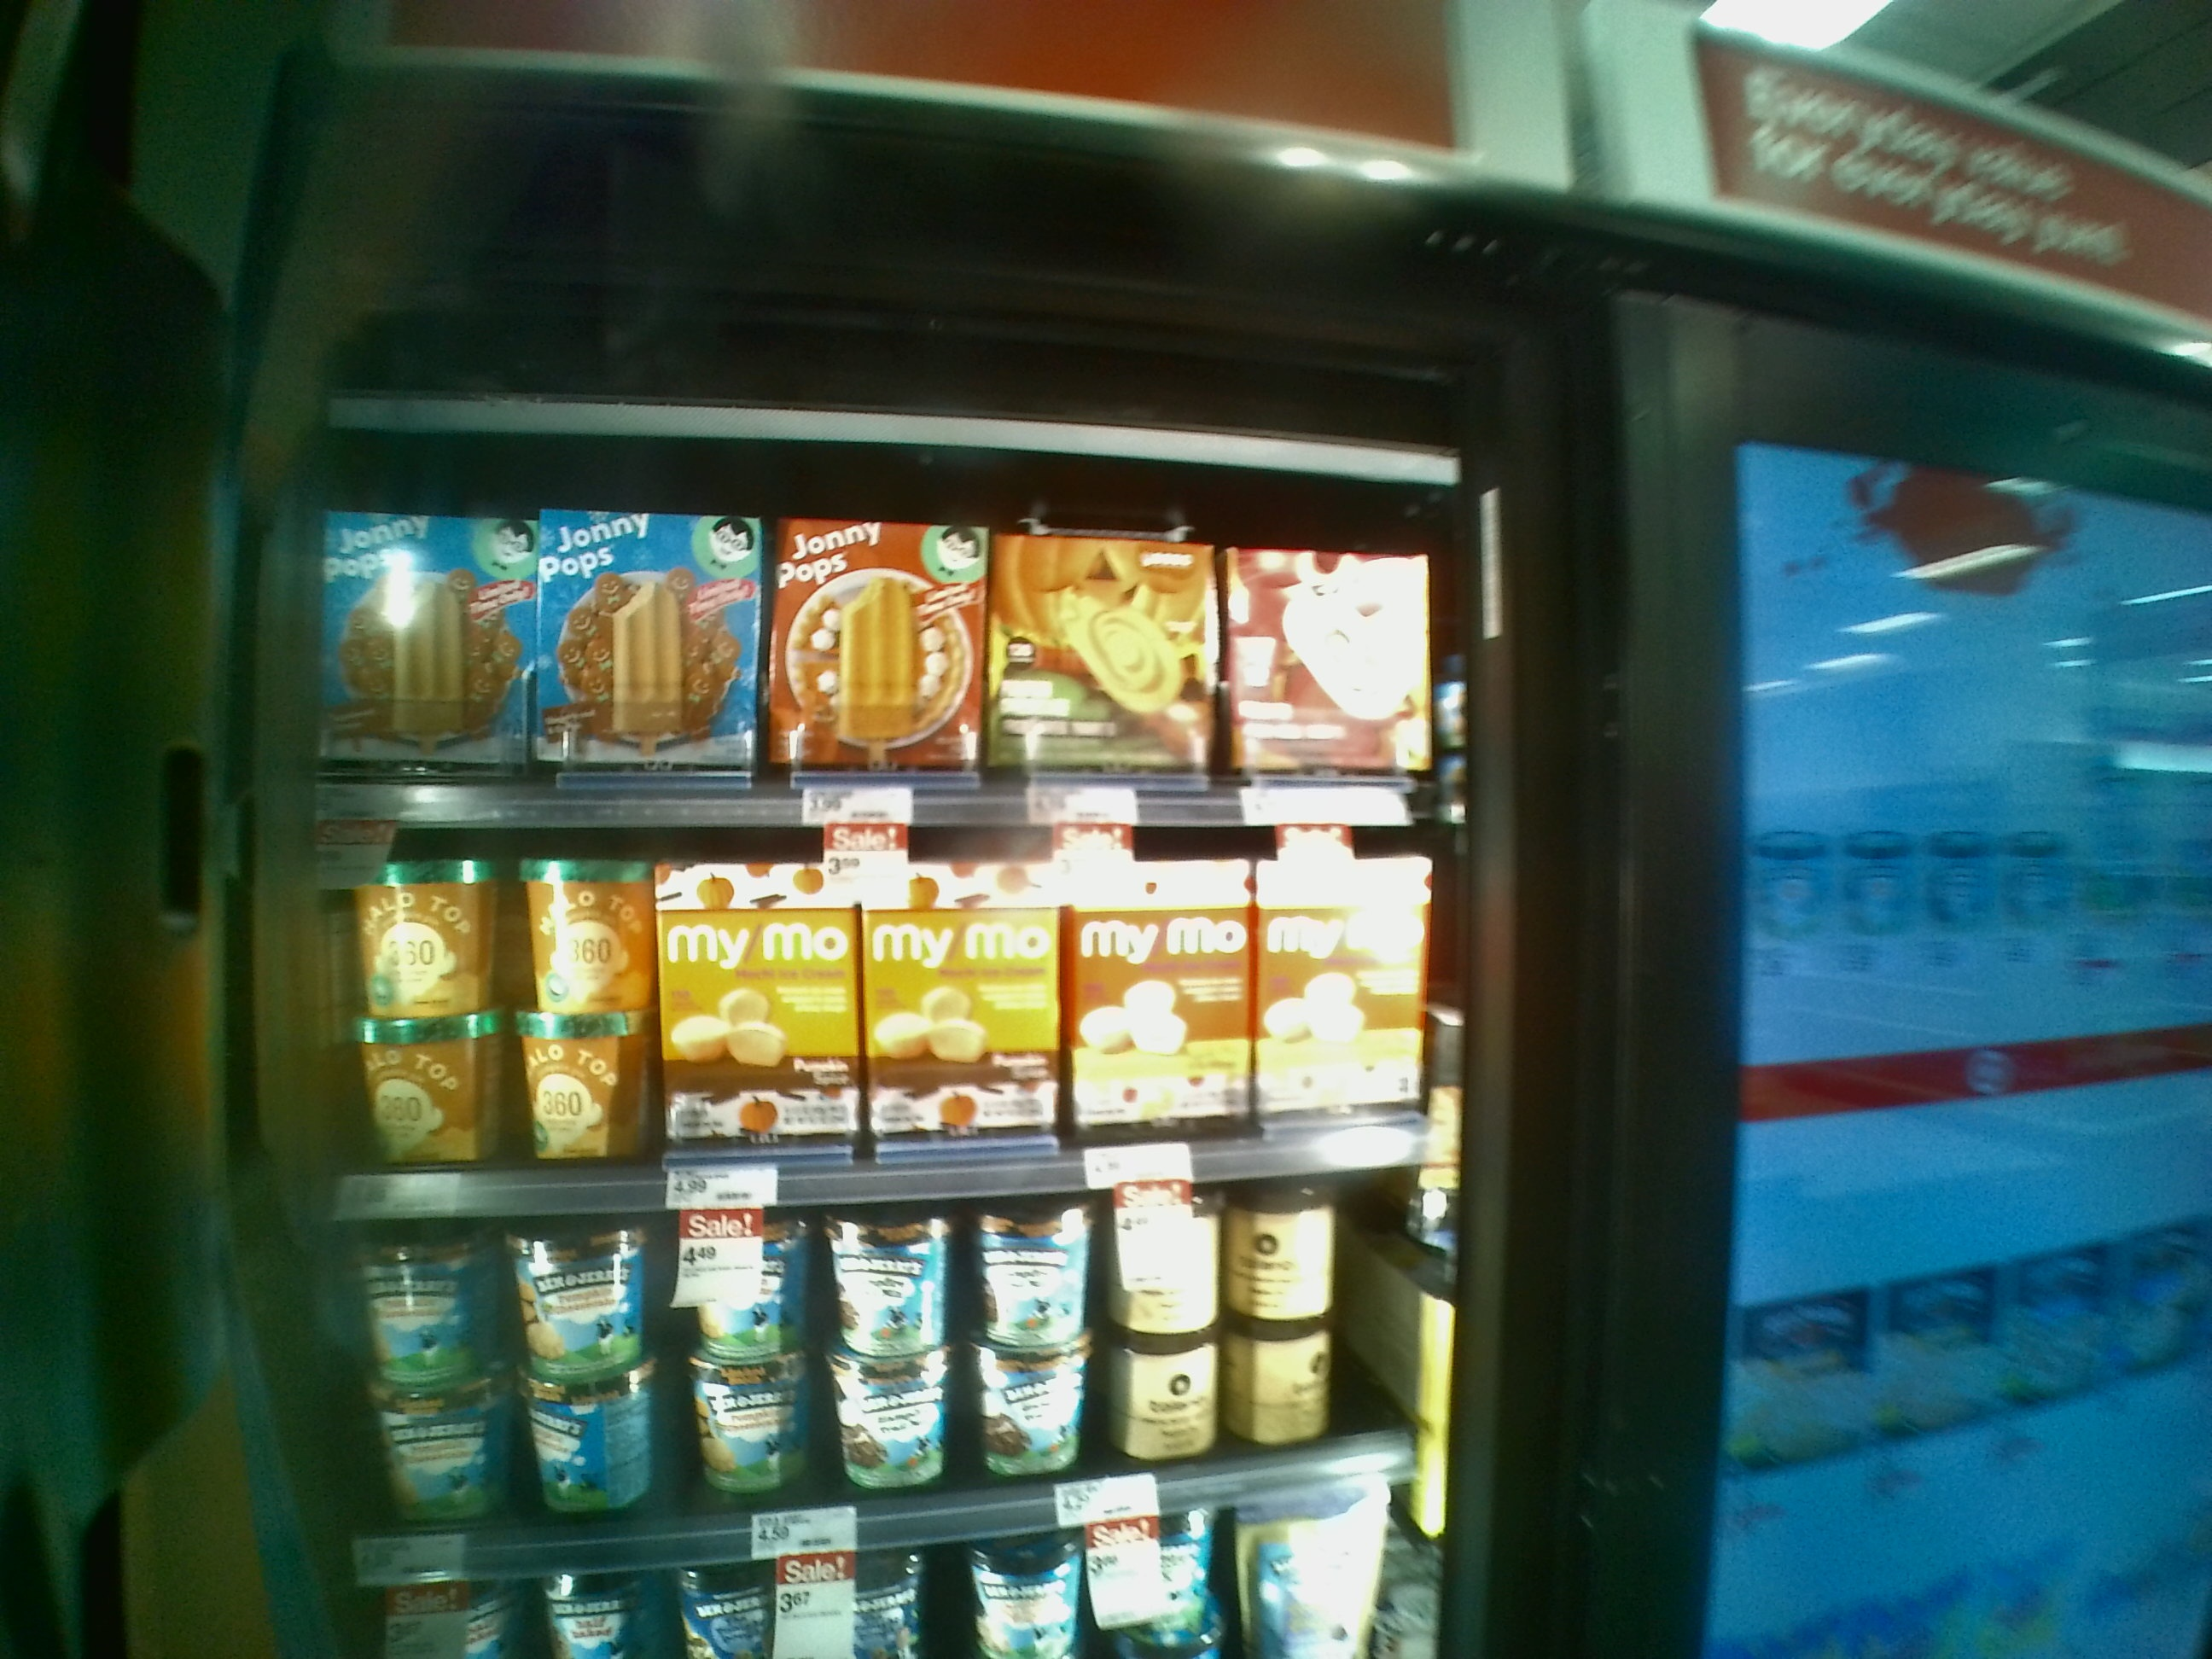shelf: (273, 418, 1480, 828), (249, 816, 1456, 1187), (270, 1201, 1474, 1532)
